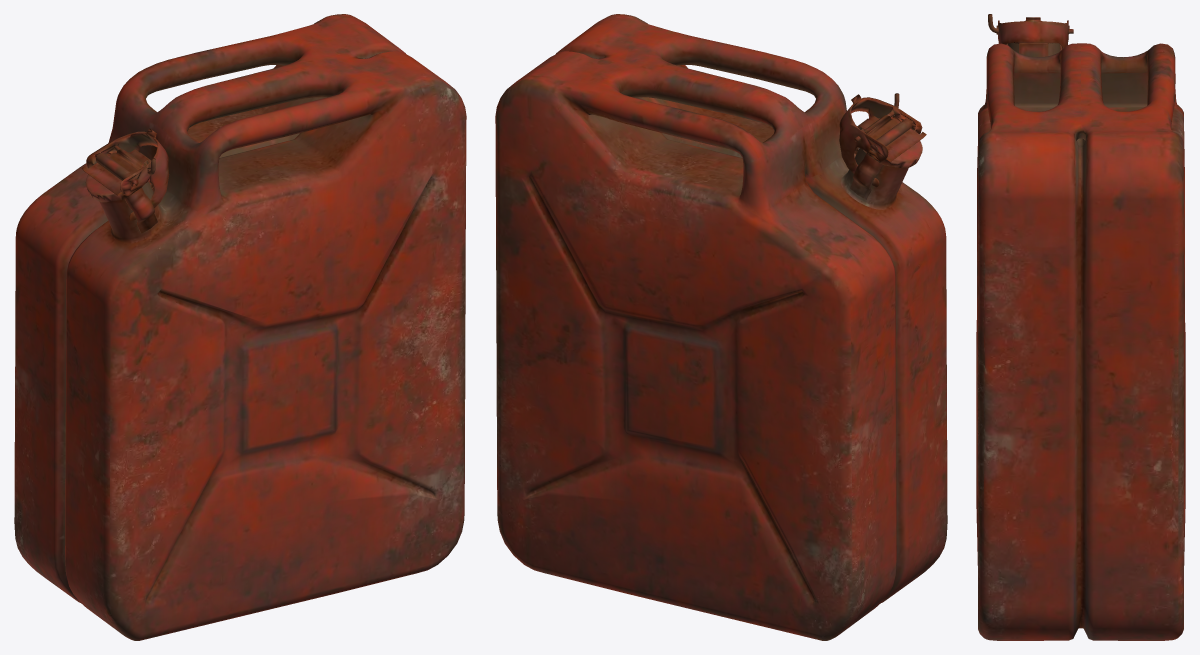
Rendered from metal_jerrycan.glb.
The picture shows the model from 3 angles, left to right: view 1: azimuth 30°, elevation 25°; view 2: azimuth 150°, elevation 25°; view 3: azimuth 270°, elevation 25°; orthographic projection. The views are drawn at different scales.
Parts seen in each view (by area): view 1: metal_jerrycan; view 2: metal_jerrycan; view 3: metal_jerrycan.
Boxes of the visible parts, x1=… form: metal_jerrycan: x1=14, y1=14, x2=466, y2=640; metal_jerrycan: x1=495, y1=14, x2=947, y2=640; metal_jerrycan: x1=976, y1=14, x2=1185, y2=640.
Size of the model in its own units: 0.3503 by 0.4552 by 0.1718.
1 material, 1 textured.
